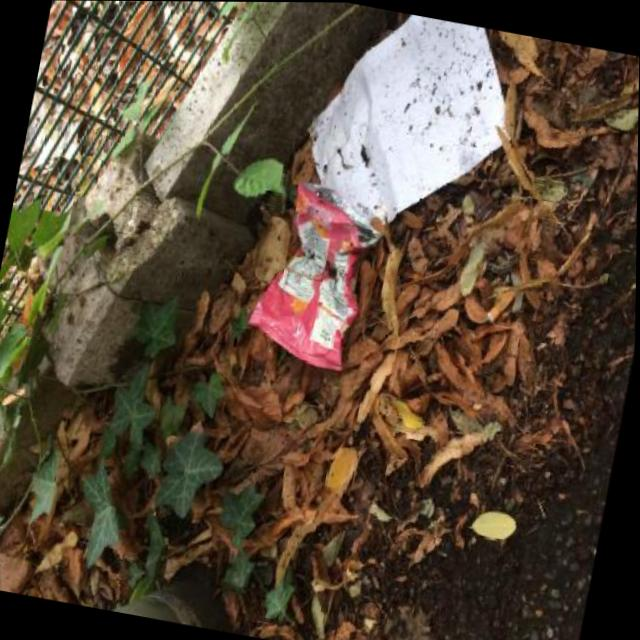paper: (292, 2, 534, 256)
plastic: (242, 174, 391, 378)
